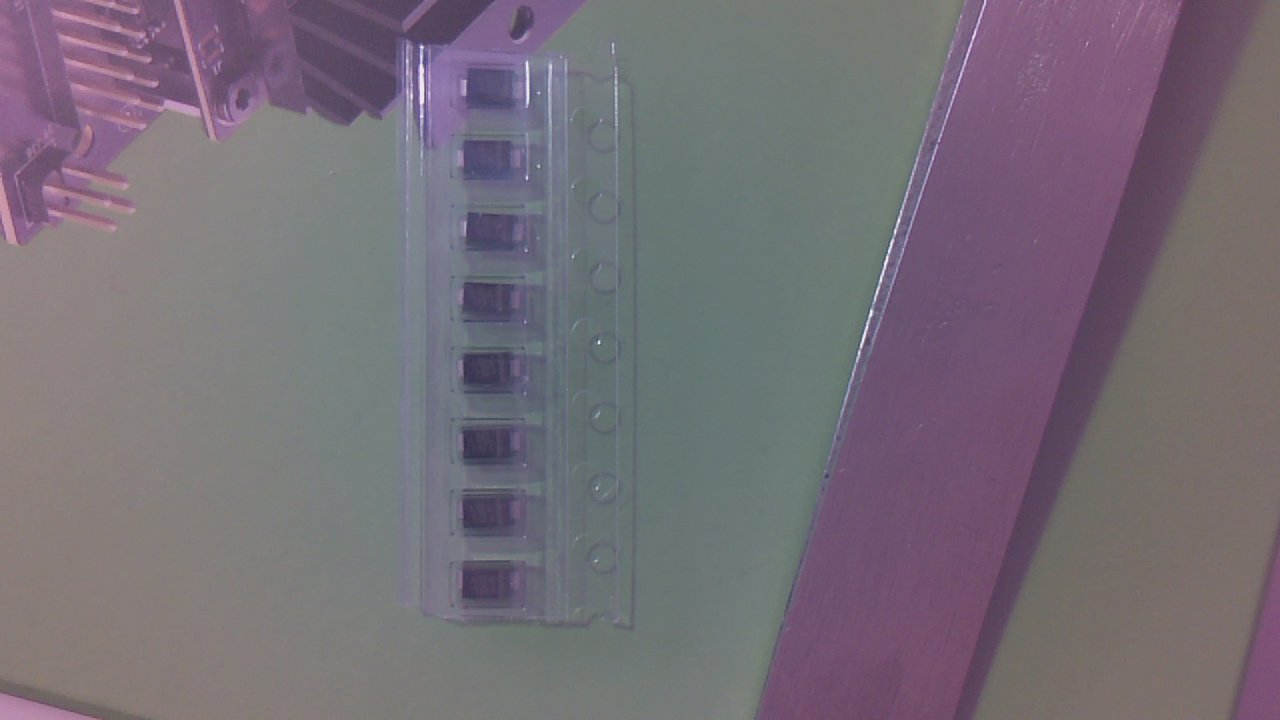Diode: (465, 72, 532, 114), (458, 567, 530, 605), (462, 283, 530, 321), (462, 143, 529, 181), (467, 215, 533, 252), (461, 429, 529, 463), (460, 496, 528, 530), (462, 356, 527, 387)
